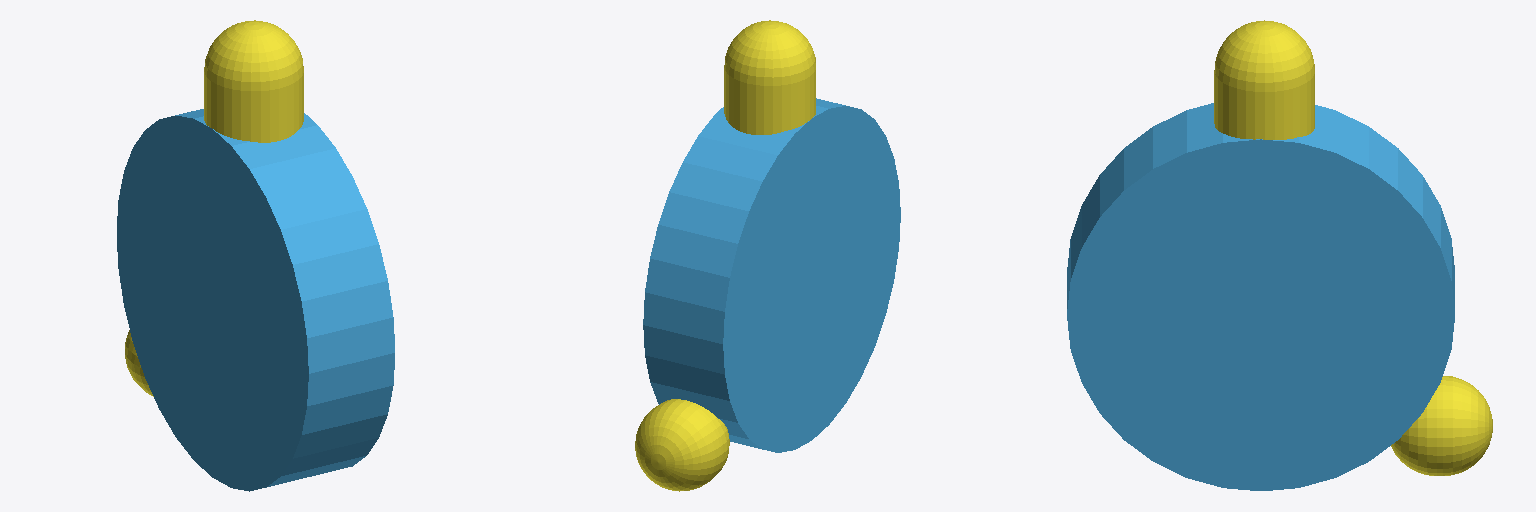
The robot description file, URDF, robot "DexterousHand":
<?xml version="1.0"?>
<robot name="DexterousHand">


    <link name="world"/>
    <joint name="world_to_palm" type="fixed">
        <parent link="world"/>
        <child link="palm"/>
        <origin xyz="0 0 0" rpy="0 0 0"/>
    </joint>
    <link name="palm">
        <inertial>
            <origin xyz="0 0 0.057" rpy="0 0 0"/>
            <mass value="0.30212892864"/>
            <inertia ixx="0.00049080844457568" ixy="0.0" ixz="0.0" iyy="0.00026746366246427523" iyz="0.0" izz="0.00026746366246427523"/>
        </inertial>
        <visual>
            <origin xyz="0 0 0.057" rpy="1.5708 0 1.5708"/>
            <geometry>
                <cylinder radius="0.057" length="0.0296"/>
            </geometry>
            <material name="default"/>
        </visual>
        <collision>
            <origin xyz="0 0 0.057" rpy="1.5708 0 1.5708"/>
            <geometry>
                <cylinder radius="0.057" length="0.0296"/>
            </geometry>
        </collision>
    </link>

    
    <joint name="thumb_joint1" type="revolute">
        <parent link="palm"/>
        <child link="thumb_base"/>
        <origin xyz="0.0029 0.0368 0.0157" rpy="-1.5708 -1.5708 0.0"/>
        <axis xyz="-1 0 0"/>
        <limit lower="-0.349" upper="2.094" effort="1.0" velocity="1.0"/>
    </joint>

    <link name="thumb_base"></link>

    <joint name="thumb_joint2" type="revolute">
        <parent link="thumb_base"/>
        <child link="thumb_proximal"/>
        <origin xyz="0.0 0.0 0.0" rpy="0.0 0.0 0.0"/>
        <axis xyz="0 0 1"/>
        <limit lower="-0.47" upper="2.443" effort="1.0" velocity="1.0"/>
    </joint>

    <link name="thumb_proximal">
        <inertial>
            <origin xyz="0 0 0.01565" rpy="0 0 0"/>
            <mass value="0.021538658803200002"/>
            <inertia ixx="2.9378910096388167e-06" ixy="0.0" ixz="0.0" 
            iyy="2.9378910096388167e-06" iyz="0.0" izz="2.358913912126464e-06"/>
        </inertial>
        <visual>
            <origin xyz="0 0 0.01565" rpy="0 0 0"/>
            <geometry>
                <cylinder radius="0.0148" length="0.0017000000000000001"/>
            </geometry>
            <material name="default"/>
        </visual>
        <visual>
            <origin xyz="0 0 0.0148" rpy="0 0 0"/>
            <geometry>
                <sphere radius="0.0148"/>
            </geometry>
            <material name="default"/>
        </visual>
        <visual>
            <origin xyz="0 0 0.0165" rpy="0 0 0"/>
            <geometry>
                <sphere radius="0.0148"/>
            </geometry>
            <material name="default"/>
        </visual>
        <collision>
            <origin xyz="0 0 0.01565" rpy="0 0 0"/>
            <geometry>
                <cylinder radius="0.0148" length="0.0017000000000000001"/>
            </geometry>
        </collision>
        <collision>
            <origin xyz="0 0 0.0148" rpy="0 0 0"/>
            <geometry>
                <sphere radius="0.0148"/>
            </geometry>
        </collision>
        <collision>
            <origin xyz="0 0 0.0165" rpy="0 0 0"/>
            <geometry>
                <sphere radius="0.0148"/>
            </geometry>
        </collision>
    </link>

    <joint name="thumb_joint3" type="revolute">
        <parent link="thumb_proximal"/>
        <child link="thumb_knuckle"/>
        <origin xyz="0.0 0.0 0.0" rpy="0.0 0.0 0.0"/>
        <axis xyz="1 0 0"/>
        <limit lower="0.0" upper="0.0" effort="1.0" velocity="1.0"/>
    </joint>

    <link name="thumb_knuckle"></link>

    <joint name="thumb_joint4" type="revolute">
        <parent link="thumb_knuckle"/>
        <child link="thumb_middle"/>
        <origin xyz="0 0 0" rpy="0 0 0"/> 
        <axis xyz="0 1 0"/>
        <limit lower="0.0" upper="0.0" effort="1.0" velocity="1.0"/>
    </joint>

    <link name="thumb_middle">
    </link>

    <joint name="thumb_joint5" type="revolute">
        <parent link="thumb_middle"/>
        <child link="thumb_distal"/>
        <origin xyz="0 0 0" rpy="0 0 0"/> 
        <axis xyz="0 1 0"/>
        <limit lower="0.0" upper="0.0" effort="1.0" velocity="1.0"/>
    </joint>

    <link name="thumb_distal">
    </link>

    
    <joint name="index_joint1" type="revolute">
        <parent link="palm"/>
        <child link="index_proximal"/>
        <origin xyz="0.0 0.0 0.0" rpy="0.0 0.0 0.0"/>
        <axis xyz="1 0 0"/>
        <limit lower="0.0" upper="0.0" effort="1.0" velocity="1.0"/>
    </joint>

    <link name="index_proximal">
    </link>

    <joint name="index_joint2" type="revolute">
        <parent link="index_proximal"/>
        <child link="index_dummy"/>
        <origin xyz="0.0 0.0 0.0" rpy="0.0 0.0 0.0"/>
        <axis xyz="0 1 0"/>
        <limit lower="0.0" upper="0.0" effort="1.0" velocity="1.0"/>
    </joint>

    <link name="index_dummy"></link>

    <joint name="index_joint3" type="revolute">
        <parent link="index_dummy"/>
        <child link="index_middle"/>
        <origin xyz="0 0 0" rpy="0 0 0"/>
        <axis xyz="0 1 0"/>
        <limit lower="0.0" upper="0.0" effort="1.0" velocity="1.0"/>
    </joint>

    <link name="index_middle">
    </link>

    <joint name="index_joint4" type="revolute">
        <parent link="index_middle"/>
        <child link="index_distal"/>
        <origin xyz="0 0 0" rpy="0 0 0"/> 
        <axis xyz="0 1 0"/>
        <limit lower="0.0" upper="0.0" effort="1.0" velocity="1.0"/>
    </joint>

    <link name="index_distal">
    </link>

    
    <joint name="middle_joint1" type="revolute">
        <parent link="palm"/>
        <child link="middle_proximal"/>
        <origin xyz="0.0 0.0011 0.091" rpy="0.0 0.0 0.0"/>
        <axis xyz="0 1 0"/>
        <limit lower="-0.314" upper="2.23" effort="1.0" velocity="1.0"/>
    </joint>

    <link name="middle_proximal">
        <inertial>
            <origin xyz="0 0 0.02655" rpy="0 0 0"/>
            <mass value="0.036540024998400006"/>
            <inertia ixx="1.058665009272394e-05" ixy="0.0" ixz="0.0" 
            iyy="1.058665009272394e-05" iyz="0.0" izz="4.001863537824769e-06"/>
        </inertial>
        <visual>
            <origin xyz="0 0 0.02655" rpy="0 0 0"/>
            <geometry>
                <cylinder radius="0.0148" length="0.0235"/>
            </geometry>
            <material name="default"/>
        </visual>
        <visual>
            <origin xyz="0 0 0.0148" rpy="0 0 0"/>
            <geometry>
                <sphere radius="0.0148"/>
            </geometry>
            <material name="default"/>
        </visual>
        <visual>
            <origin xyz="0 0 0.0383" rpy="0 0 0"/>
            <geometry>
                <sphere radius="0.0148"/>
            </geometry>
            <material name="default"/>
        </visual>
        <collision>
            <origin xyz="0 0 0.02655" rpy="0 0 0"/>
            <geometry>
                <cylinder radius="0.0148" length="0.0235"/>
            </geometry>
        </collision>
        <collision>
            <origin xyz="0 0 0.0148" rpy="0 0 0"/>
            <geometry>
                <sphere radius="0.0148"/>
            </geometry>
        </collision>
        <collision>
            <origin xyz="0 0 0.0383" rpy="0 0 0"/>
            <geometry>
                <sphere radius="0.0148"/>
            </geometry>
        </collision>
    </link>

    <joint name="middle_joint2" type="revolute">
        <parent link="middle_proximal"/>
        <child link="middle_dummy"/>
        <origin xyz="0.0 0.0 0.038" rpy="0.0 0.0 0.0"/>
        <axis xyz="0 1 0"/>
        <limit lower="0.0" upper="0.0" effort="1.0" velocity="1.0"/>
    </joint>

    <link name="middle_dummy"></link>

    <joint name="middle_joint3" type="revolute">
        <parent link="middle_dummy"/>
        <child link="middle_middle"/>
        <origin xyz="0 0 0.015100000000000002" rpy="0 0 0"/>
        <axis xyz="0 1 0"/>
        <limit lower="0.0" upper="0.0" effort="1.0" velocity="1.0"/>
    </joint>

    <link name="middle_middle">
    </link>

    <joint name="middle_joint4" type="revolute">
        <parent link="middle_middle"/>
        <child link="middle_distal"/>
        <origin xyz="0 0 0" rpy="0 0 0"/> 
        <axis xyz="0 1 0"/>
        <limit lower="0.0" upper="0.0" effort="1.0" velocity="1.0"/>
    </joint>

    <link name="middle_distal">
    </link>

    
    <joint name="ring_joint1" type="revolute">
        <parent link="palm"/>
        <child link="ring_proximal"/>
        <origin xyz="0.0 0.0 0.0" rpy="0.0 0.0 0.0"/>
        <axis xyz="1 0 0"/>
        <limit lower="0.0" upper="0.0" effort="1.0" velocity="1.0"/>
    </joint>

    <link name="ring_proximal">
    </link>

    <joint name="ring_joint2" type="revolute">
        <parent link="ring_proximal"/>
        <child link="ring_dummy"/>
        <origin xyz="0.0 0.0 0.0" rpy="0.0 0.0 0.0"/>
        <axis xyz="0 1 0"/>
        <limit lower="0.0" upper="0.0" effort="1.0" velocity="1.0"/>
    </joint>

    <link name="ring_dummy"></link>

    <joint name="ring_joint3" type="revolute">
        <parent link="ring_dummy"/>
        <child link="ring_middle"/>
        <origin xyz="0 0 0" rpy="0 0 0"/>
        <axis xyz="0 1 0"/>
        <limit lower="0.0" upper="0.0" effort="1.0" velocity="1.0"/>
    </joint>

    <link name="ring_middle">
    </link>

    <joint name="ring_joint4" type="revolute">
        <parent link="ring_middle"/>
        <child link="ring_distal"/>
        <origin xyz="0 0 0" rpy="0 0 0"/> 
        <axis xyz="0 1 0"/>
        <limit lower="0.0" upper="0.0" effort="1.0" velocity="1.0"/>
    </joint>

    <link name="ring_distal">
    </link>

    
    <joint name="little_joint0" type="revolute">
        <parent link="palm"/>
        <child link="little_base"/>
        <origin xyz="0.0 0.0 0.0" rpy="0.0 0.0 0.0"/>
        <axis xyz="0 1 0"/>
        <limit lower="0.0" upper="0.0" effort="1.0" velocity="1.0"/>
    </joint>

    <link name="little_base"></link>

    <joint name="little_joint1" type="revolute">
        <parent link="little_base"/>
        <child link="little_proximal"/>
        <origin xyz="0.0 0.0 0.0" rpy="-0.0 -0.0 -0.0"/>
        <axis xyz="1 0 0"/>
        <limit lower="0.0" upper="0.0" effort="1.0" velocity="1.0"/>
    </joint>

    <link name="little_proximal">
    </link>

    <joint name="little_joint2" type="revolute">
        <parent link="little_proximal"/>
        <child link="little_dummy"/>
        <origin xyz="0.0 0.0 0.0" rpy="0.0 0.0 0.0"/>
        <axis xyz="0 1 0"/>
        <limit lower="0.0" upper="0.0" effort="1.0" velocity="1.0"/>
    </joint>

    <link name="little_dummy"></link>

    <joint name="little_joint3" type="revolute">
        <parent link="little_dummy"/>
        <child link="little_middle"/>
        <origin xyz="0 0 0" rpy="0 0 0"/>
        <axis xyz="0 1 0"/>
        <limit lower="0.0" upper="0.0" effort="1.0" velocity="1.0"/>
    </joint>

    <link name="little_middle">
    </link>

    <joint name="little_joint4" type="revolute">
        <parent link="little_middle"/>
        <child link="little_distal"/>
        <origin xyz="0 0 0" rpy="0 0 0"/>
        <axis xyz="0 1 0"/>
        <limit lower="0.0" upper="0.0" effort="1.0" velocity="1.0"/>
    </joint>

    <link name="little_distal">
    </link>

</robot>

--- What the picture shows (computed from the rendered views, not written in the file) ---
The picture shows the robot from 3 angles, left to right: view 1: azimuth 30°, elevation 25°; view 2: azimuth 150°, elevation 25°; view 3: azimuth 270°, elevation 25°; orthographic projection.
Model DexterousHand with 24 links and 23 joints (22 revolute, 1 fixed), rooted at world, posed all joints at 0.
Links seen in each view (by area): view 1: palm, middle_proximal, thumb_proximal; view 2: palm, middle_proximal, thumb_proximal; view 3: palm, middle_proximal, thumb_proximal.
Boxes of the visible links, x1,y1,x2,y2 form: palm: (117, 109, 394, 491); middle_proximal: (204, 20, 303, 142); thumb_proximal: (125, 330, 153, 396); palm: (643, 98, 900, 452); middle_proximal: (724, 20, 815, 134); thumb_proximal: (635, 399, 729, 491); palm: (1067, 103, 1454, 490); middle_proximal: (1214, 20, 1314, 139); thumb_proximal: (1391, 376, 1492, 475).
Bounding box of the posed robot: 0.0325 × 0.1251 × 0.1441 m (x, y, z).
Geometry: primitives only (box / cylinder / sphere), no mesh files.
